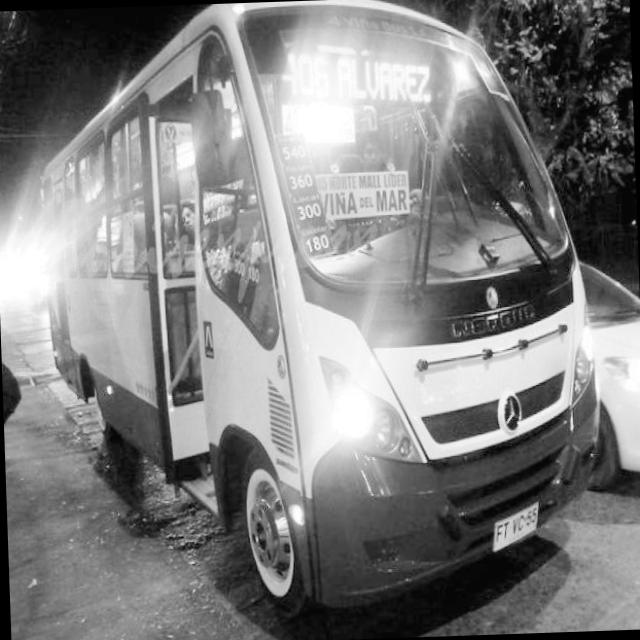Bus: (30, 16, 595, 604)
Car: (567, 202, 640, 496)
